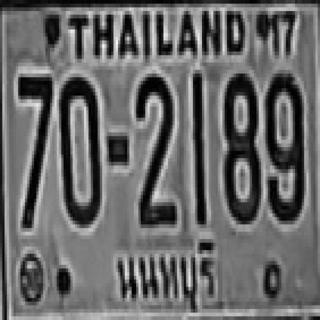N00: (59, 75, 100, 223)
N01: (191, 70, 204, 224)
N02: (136, 72, 175, 223)
N07: (17, 74, 51, 224)
N08: (222, 70, 259, 221)
N09: (263, 70, 302, 221)
P37: (110, 239, 222, 311)
